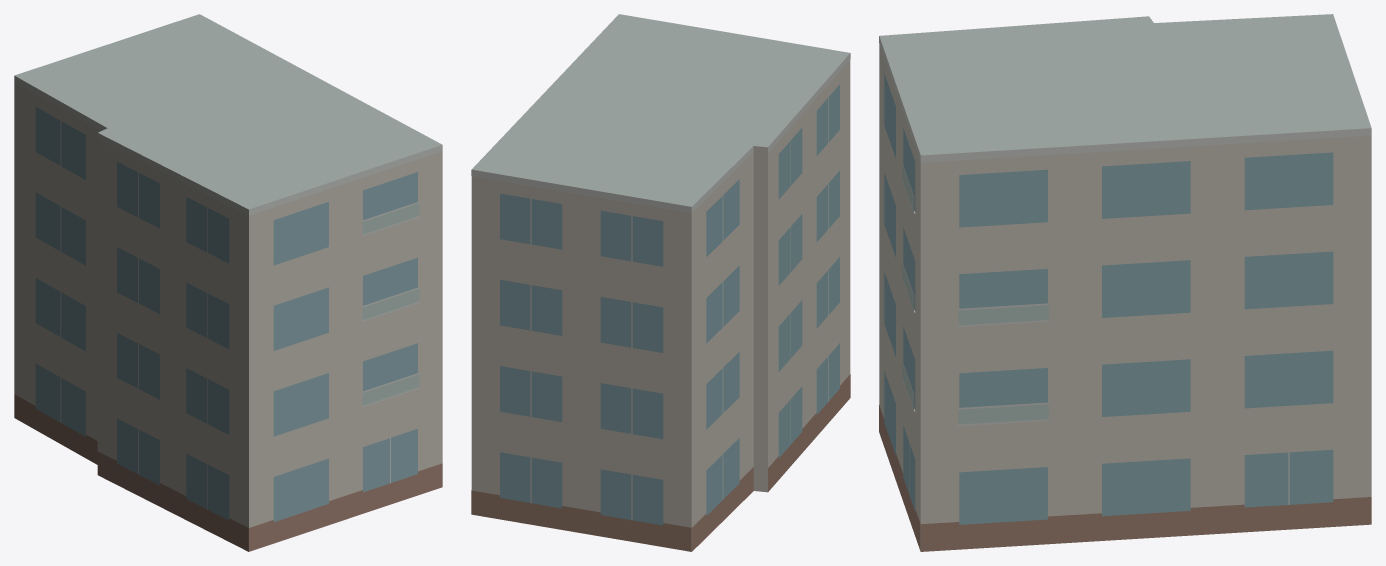
Rendered from survey-upis-32457822.glb.
3 views of the same model, side by side, from view 1: azimuth 30°, elevation 25°; view 2: azimuth 150°, elevation 25°; view 3: azimuth 270°, elevation 25° (orthographic). The views are drawn at different scales.
Parts seen in each view (by area): view 1: survey-upis-32457822.tmp; view 2: survey-upis-32457822.tmp; view 3: survey-upis-32457822.tmp.
Boxes of the visible parts, x1,y1,x2,y2 form: survey-upis-32457822.tmp: [14, 14, 442, 551]; survey-upis-32457822.tmp: [471, 14, 850, 551]; survey-upis-32457822.tmp: [879, 14, 1371, 551].
Bounding box in the file's own units: 10.19 × 13.3 × 14.99.
